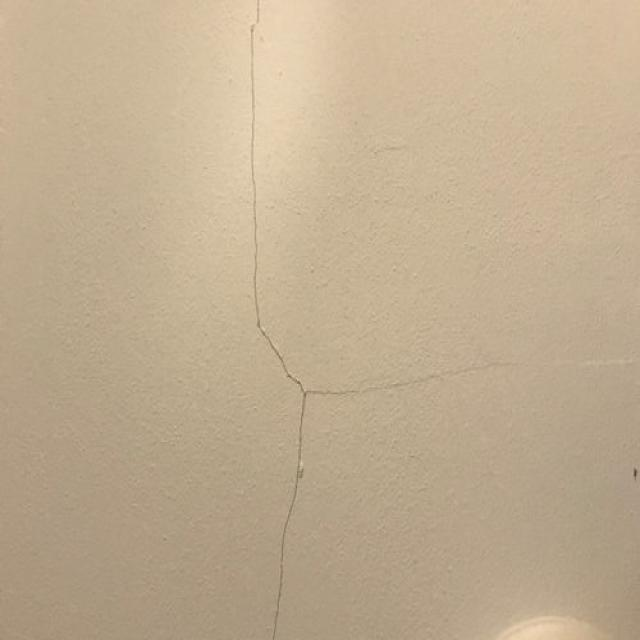leak: (246, 0, 304, 390), (306, 357, 640, 398), (270, 391, 308, 640)
